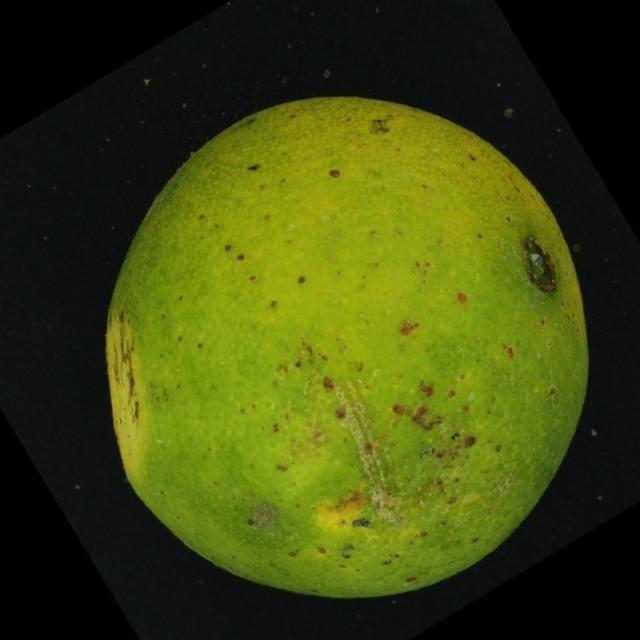grenning: (78, 72, 603, 621)
